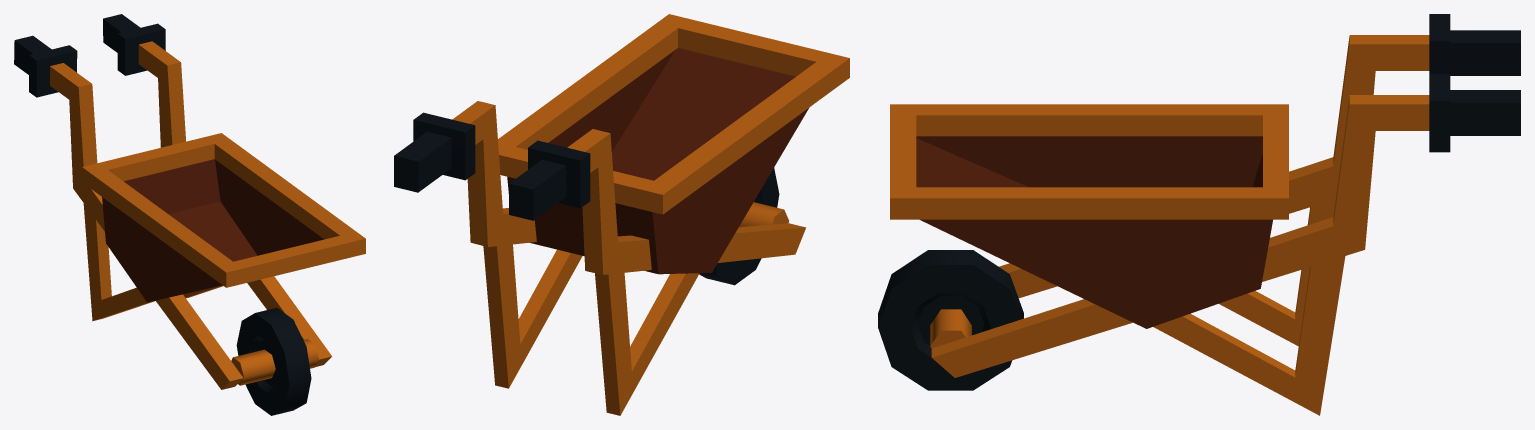
File: Barrow_1.fbx
3 views of the same model, side by side, from view 1: azimuth 30°, elevation 25°; view 2: azimuth 150°, elevation 25°; view 3: azimuth 270°, elevation 25° (orthographic). The views are drawn at different scales.
Visible parts, largest first — view 1: Barrow_1; view 2: Barrow_1; view 3: Barrow_1.
Part boxes in pixels (x1,y1,x2,y2): Barrow_1: [14, 14, 365, 415]; Barrow_1: [394, 14, 849, 415]; Barrow_1: [878, 14, 1520, 415].
Bounding box in the file's own units: 30.29 × 48.89 × 87.43.
